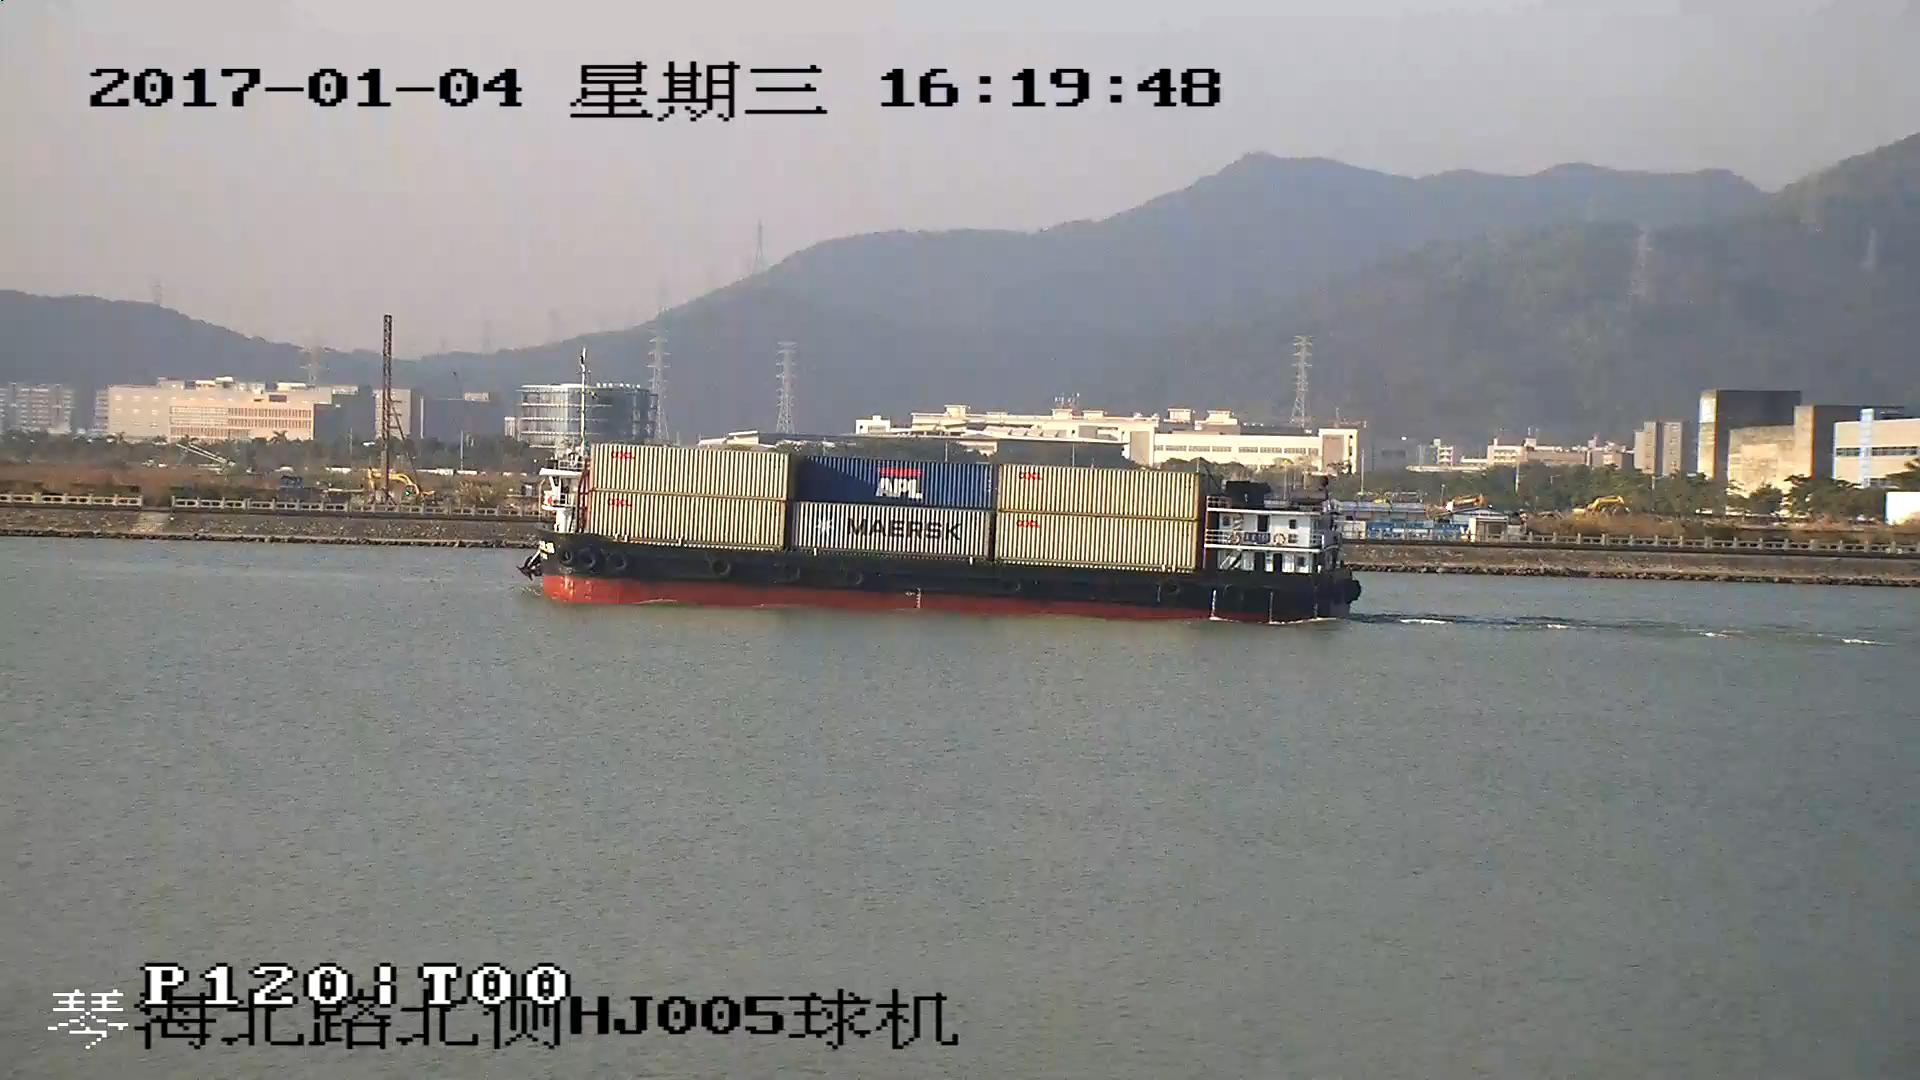container ship: (521, 433, 1361, 621)
